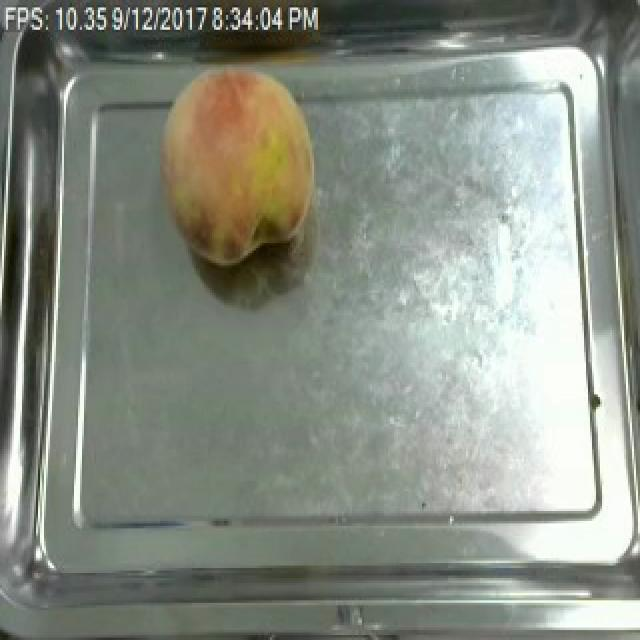Fruit: (150, 59, 326, 276)
